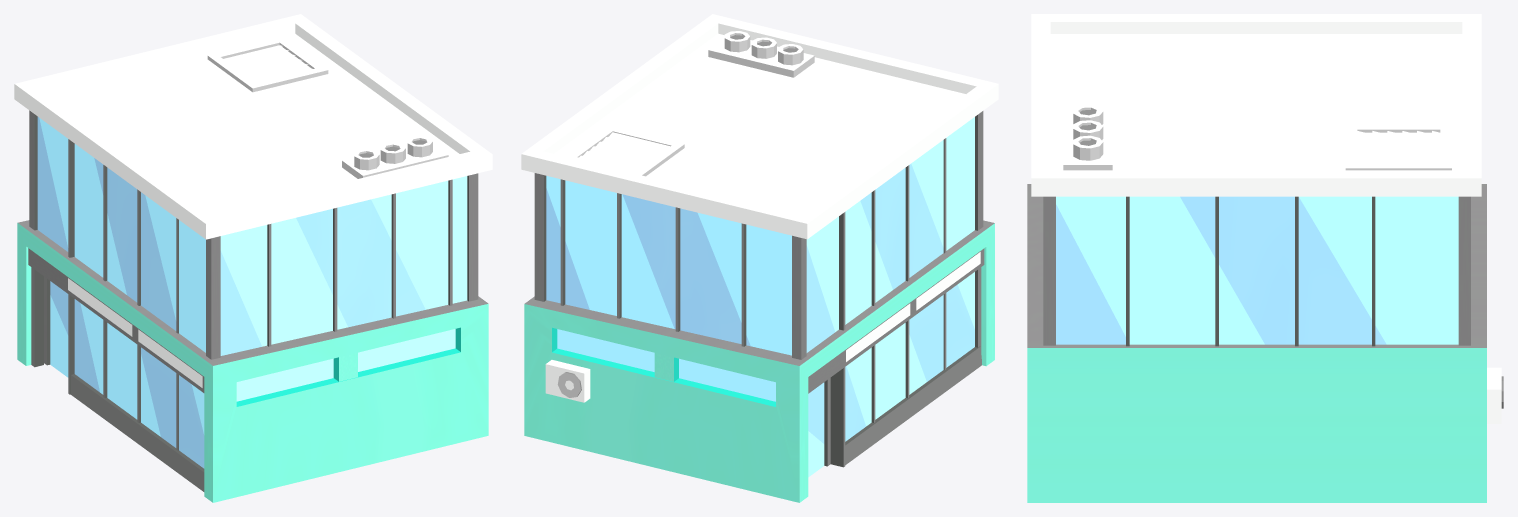
The model's file is tile_for_home_1x1.006 (8) supermarket (9).glb.
3 renders of one model, left to right at view 1: azimuth 30°, elevation 25°; view 2: azimuth 150°, elevation 25°; view 3: azimuth 270°, elevation 25°, orthographic. The views are drawn at different scales.
Parts seen in each view (by area): view 1: supermarket.009; view 2: supermarket.009; view 3: supermarket.009.
Boxes of the visible parts, box(x1,y1,x2,y2) form: supermarket.009: box(14, 14, 492, 502); supermarket.009: box(521, 14, 998, 502); supermarket.009: box(1027, 14, 1503, 502).
Size of the model in its own units: 6.03 by 5.79 by 7.38.
1 material, 1 textured.
